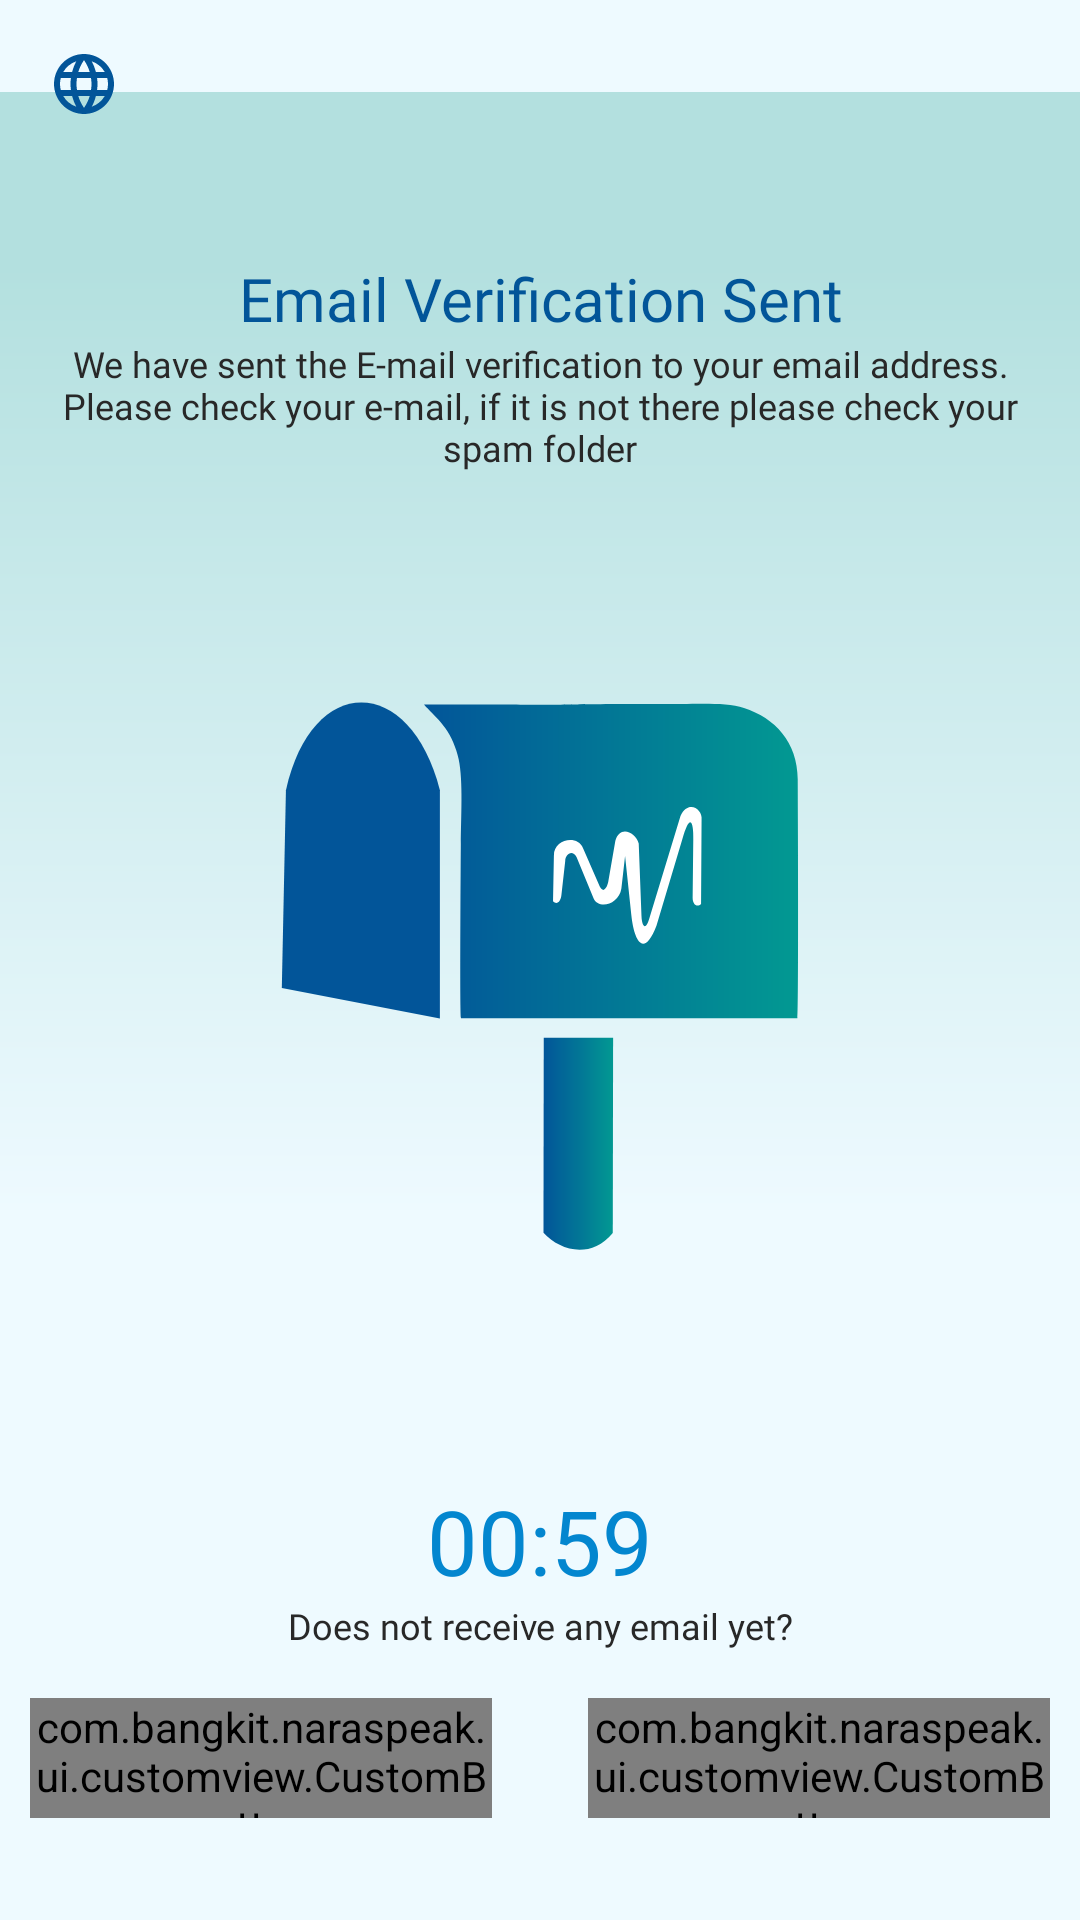

Point at icon controls on the screen. Image size 1080px×1920px, points as [x,y].
language: [84,84]
